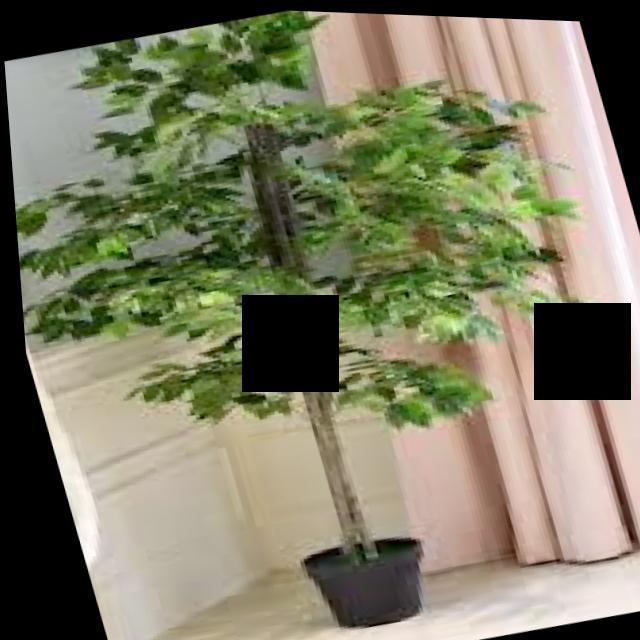Tree: (1, 1, 640, 616)
